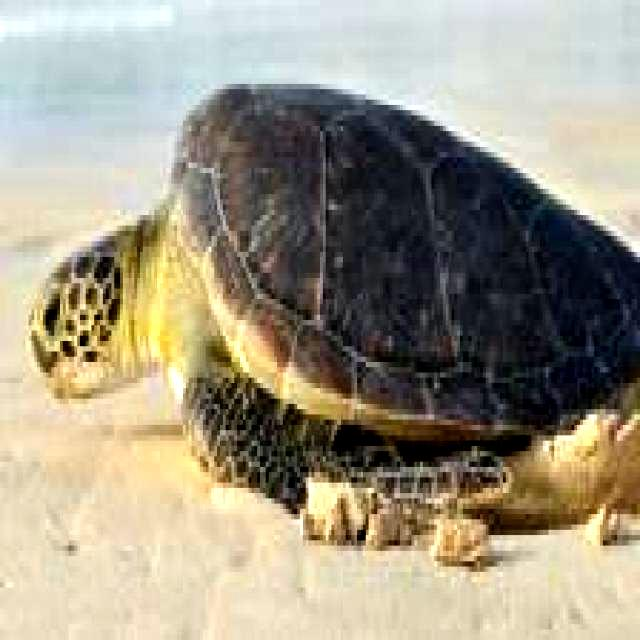Sea turtle: (21, 79, 640, 558)
